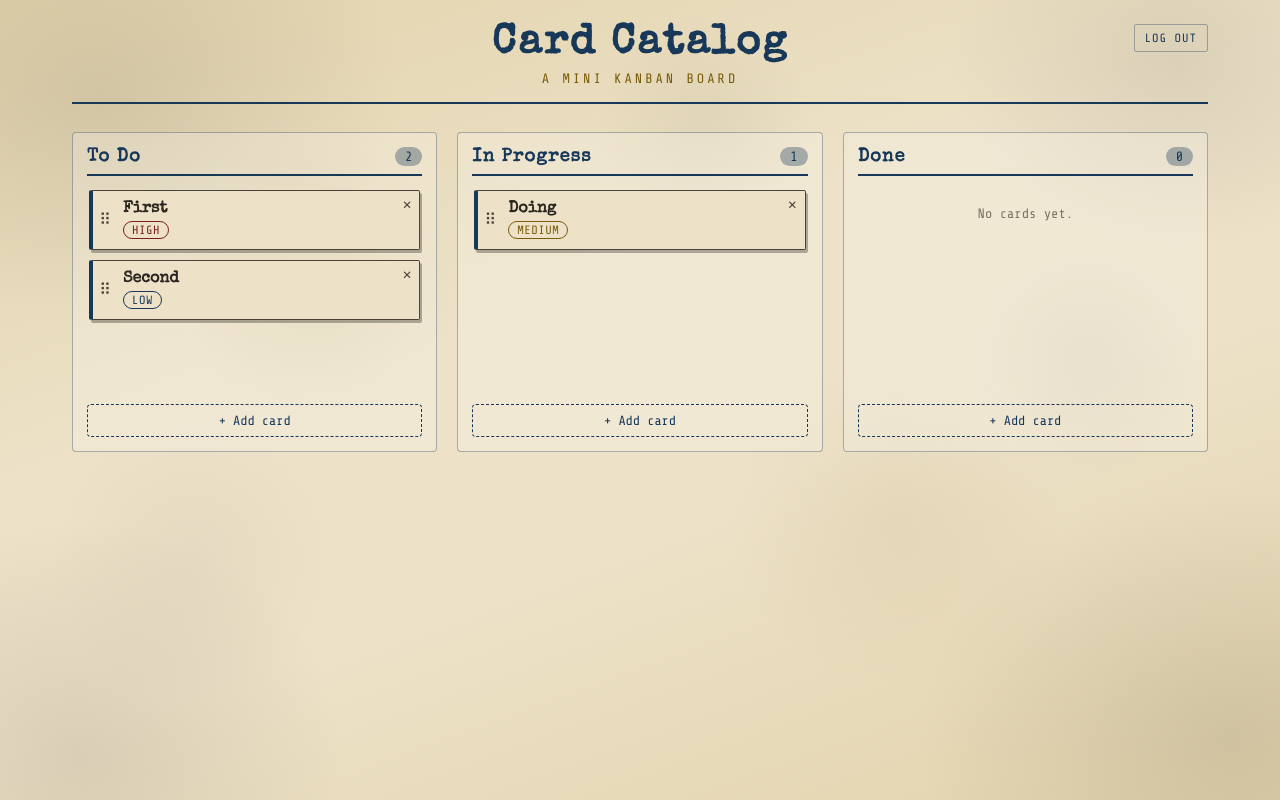
App › removes a card after a confirmed delete
Expected: the heading "Doing" is shown, left=508, top=201, right=556, bottom=217
Click the button named "Delete card".
click(792, 206)  # box left=784, top=195, right=801, bottom=217
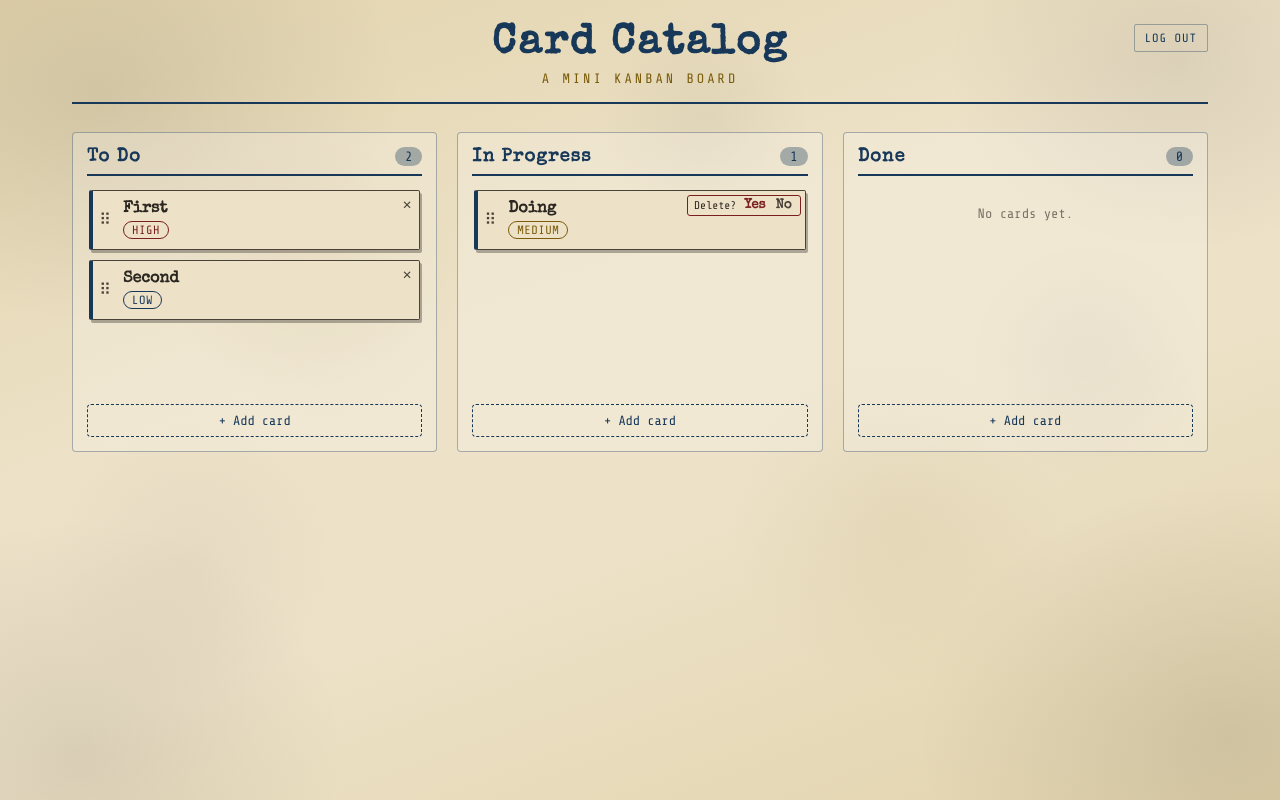
Click the button "Yes".
click(755, 206)  # box left=742, top=199, right=768, bottom=212
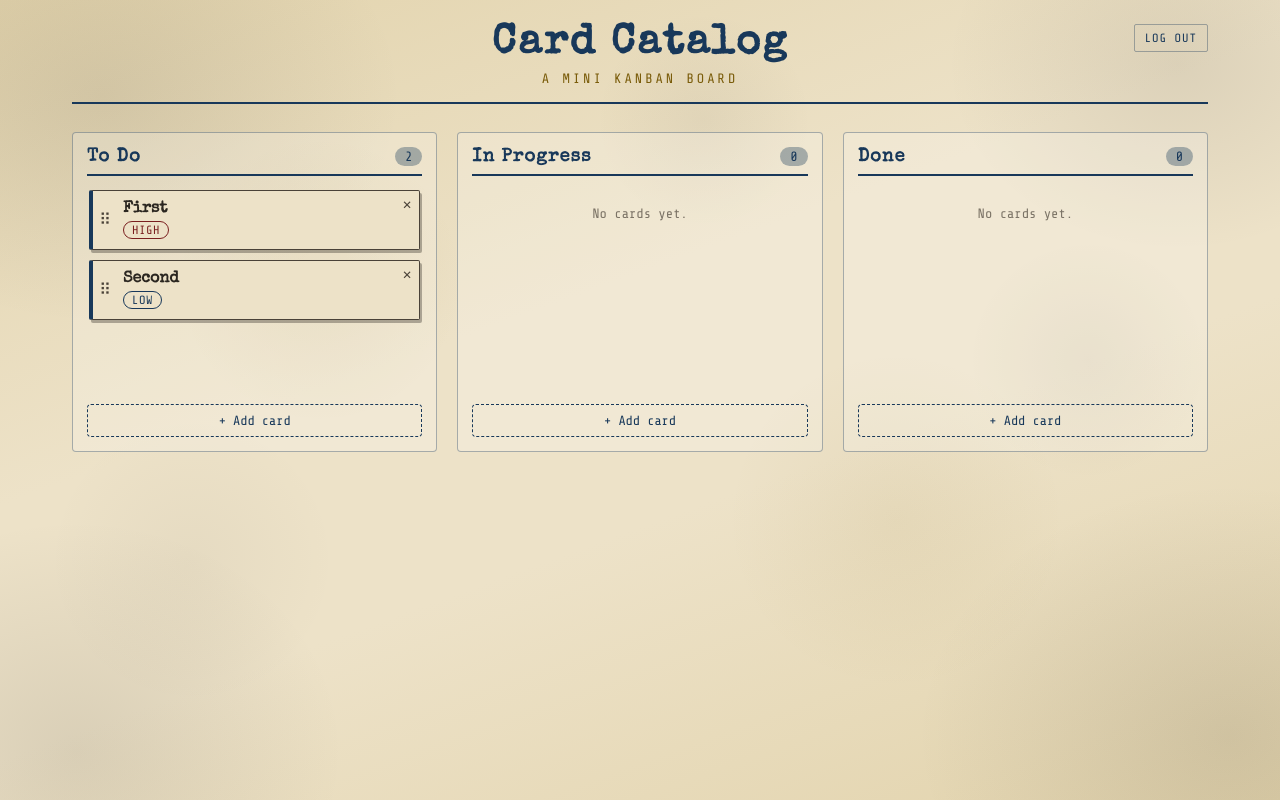
Result: the text "No cards yet." below "In Progress" is shown at left=592, top=206, right=688, bottom=221
